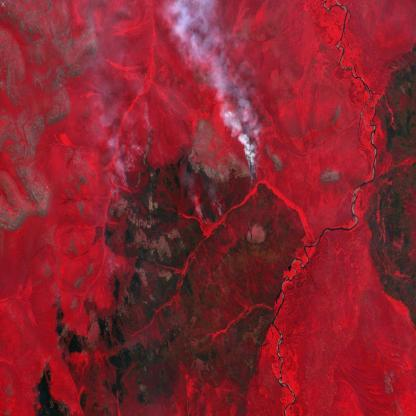fire: (198, 150, 260, 240), (111, 129, 155, 216)
